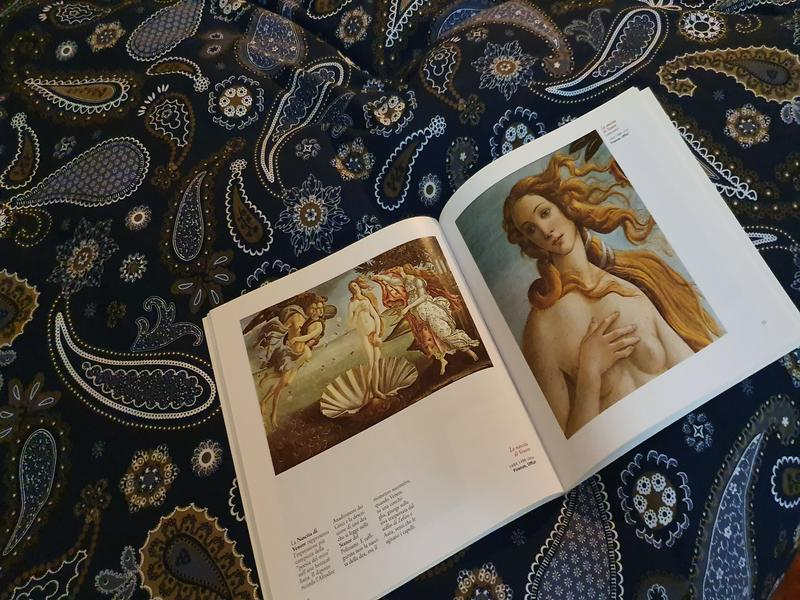Venere: (240, 235, 492, 475)
